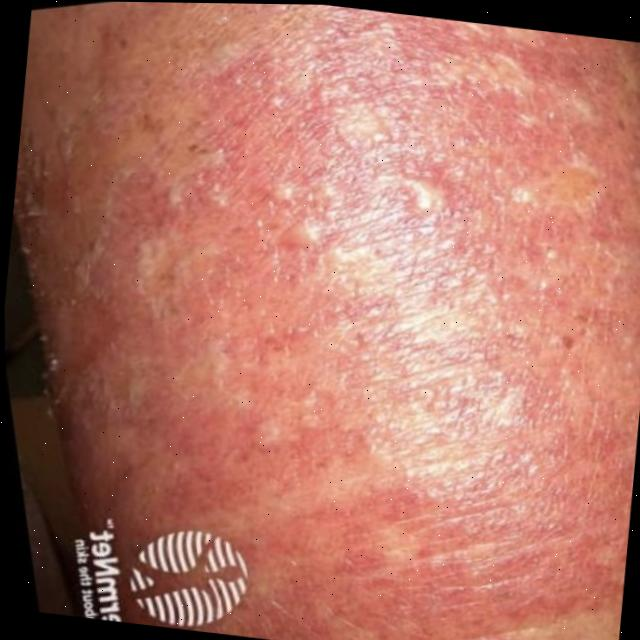Eczema: (60, 9, 624, 640)
